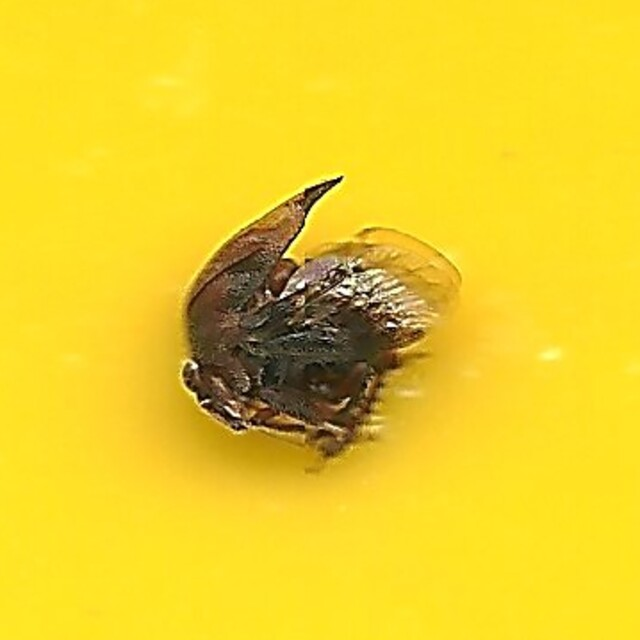Hemiptera: (178, 176, 462, 464)
